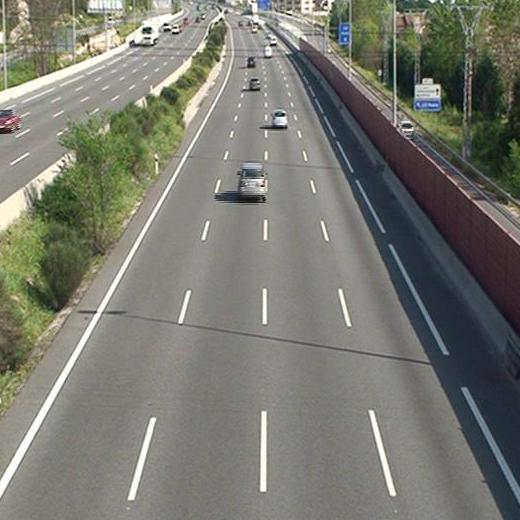car: (239, 163, 267, 199), (271, 109, 287, 127), (249, 77, 261, 90), (246, 56, 257, 67)
van: (263, 47, 273, 58)
